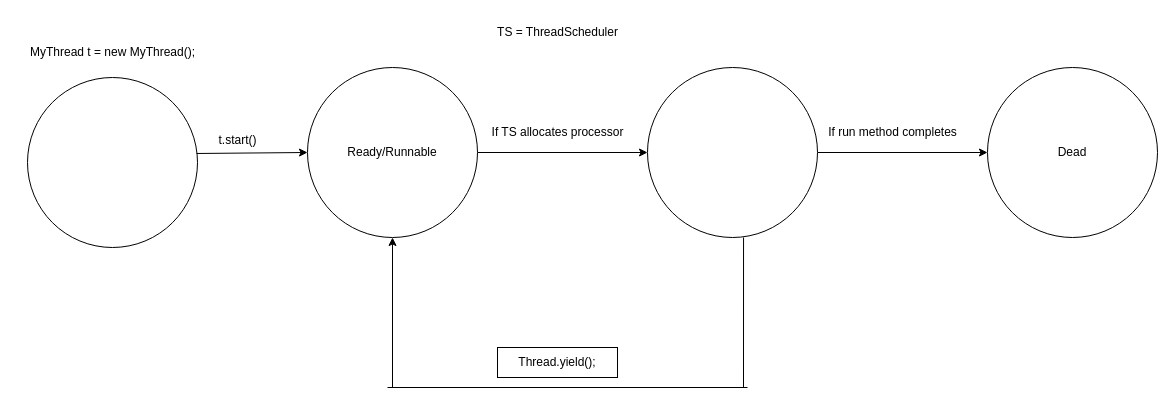
Some shapes in this 1175 by 413 pixel diagram are drawn without their labels. The shapes that lost their labels are listed below. From the top down, each one's box as (x1, y1, x2, y2) in pixels, then its label:
(26, 76, 198, 248): New/Born
(646, 66, 818, 238): Running
